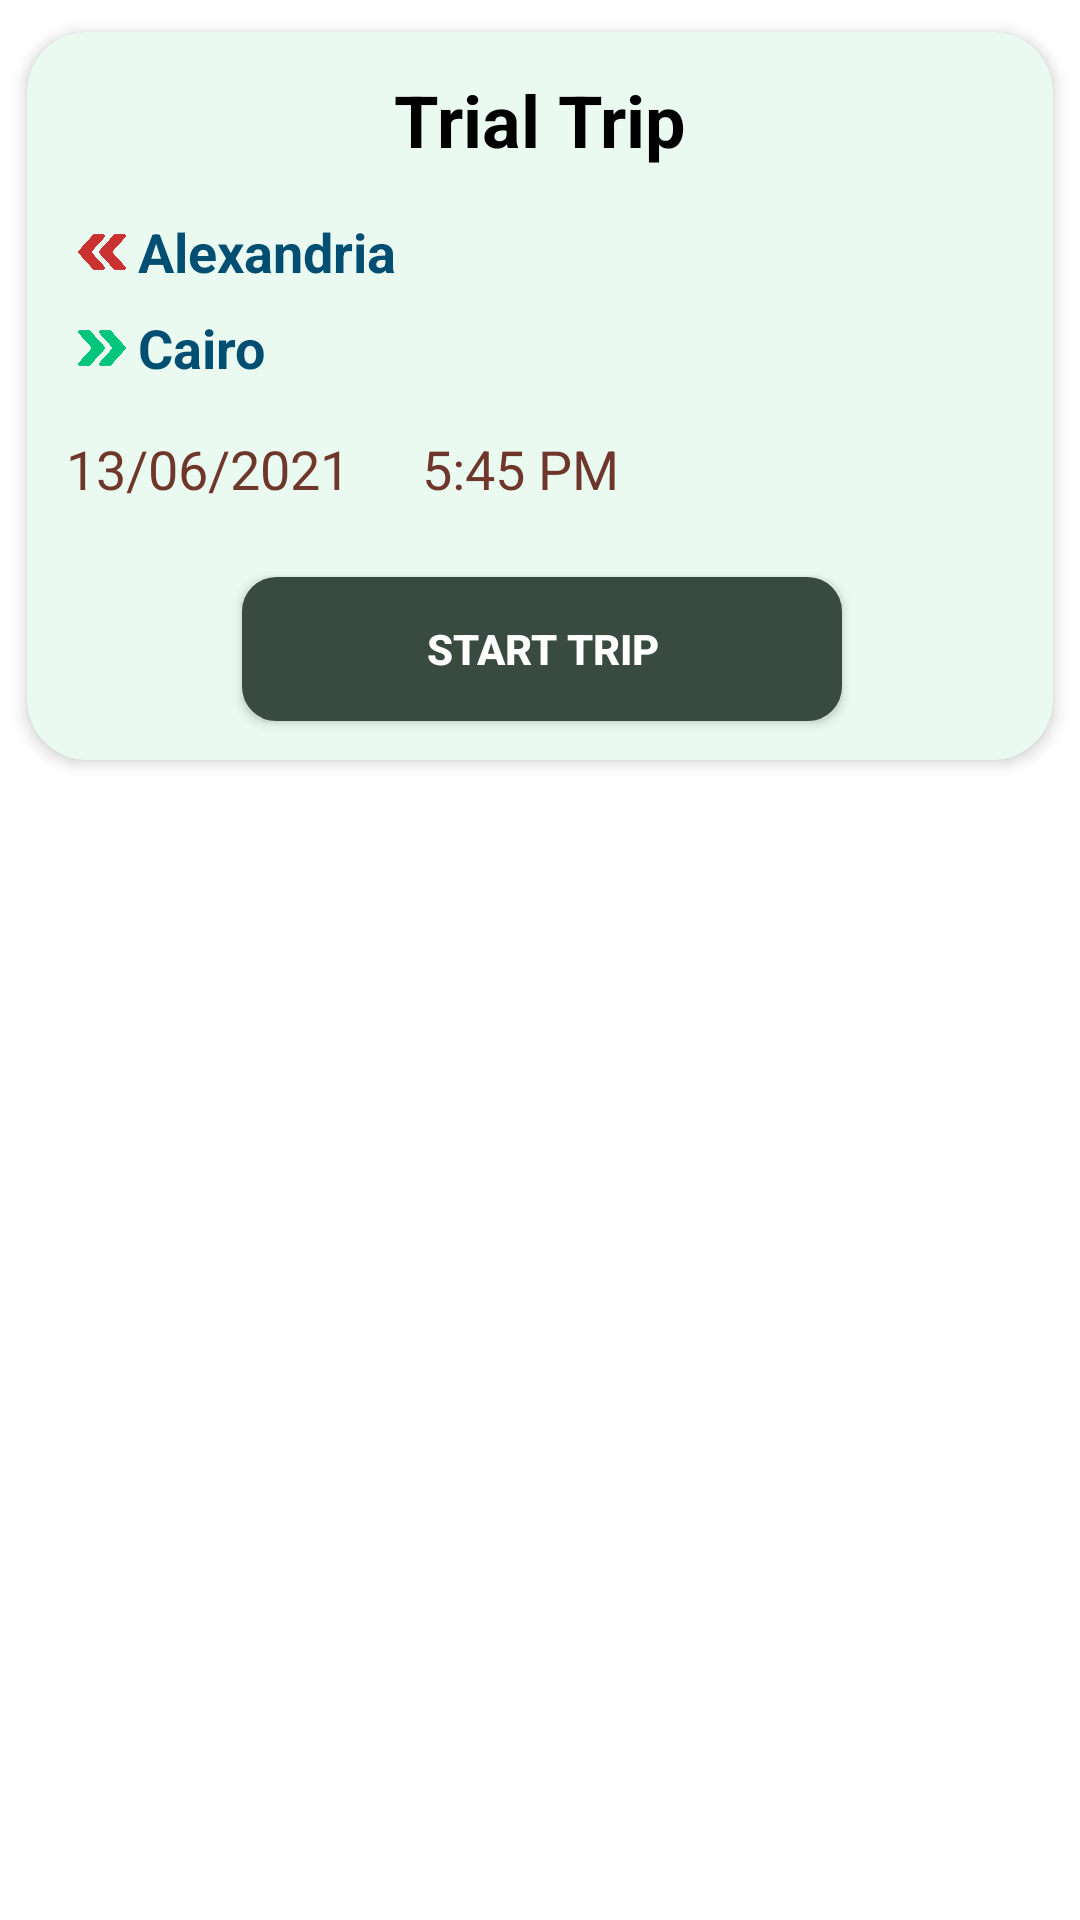

Screen size 1080px×1920px. Icon name, then its center in pixels as (x=x, y=y):
greenarrow: (x=102, y=348)
redarrow: (x=102, y=252)
